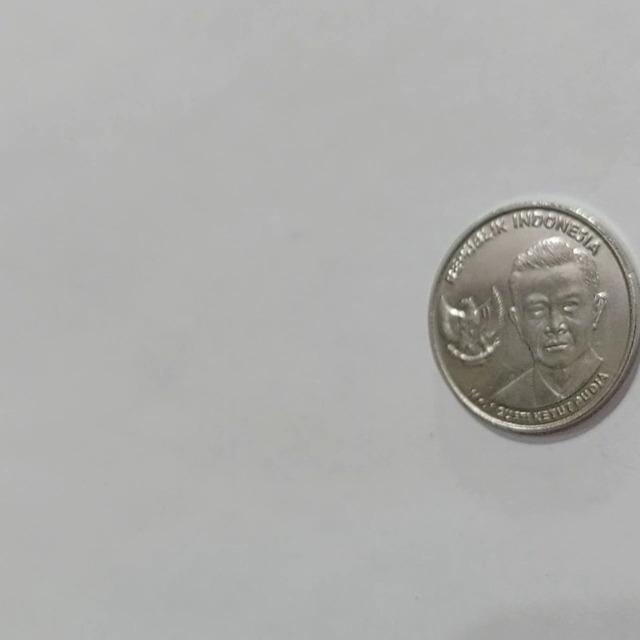Rp100: (427, 198, 640, 438)
